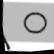no answer: (16, 8, 52, 39)
